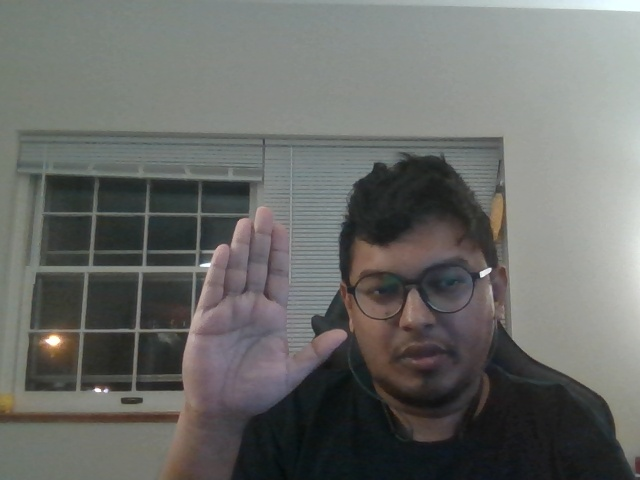hello: (155, 199, 359, 418)
